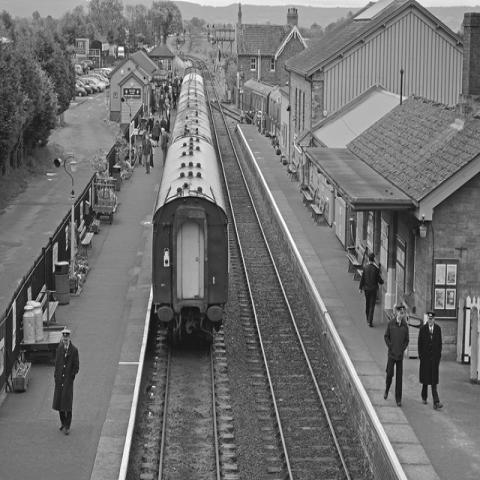car: (87, 73, 110, 88), (78, 78, 102, 92), (83, 77, 106, 89), (76, 80, 93, 94), (75, 84, 87, 98), (100, 68, 112, 77)
